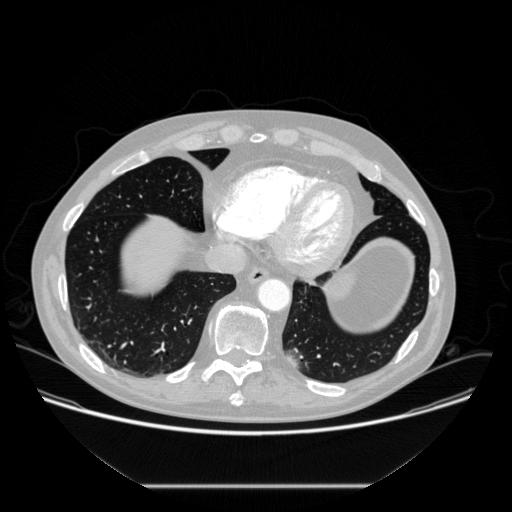nodule: (281, 346, 307, 372)
